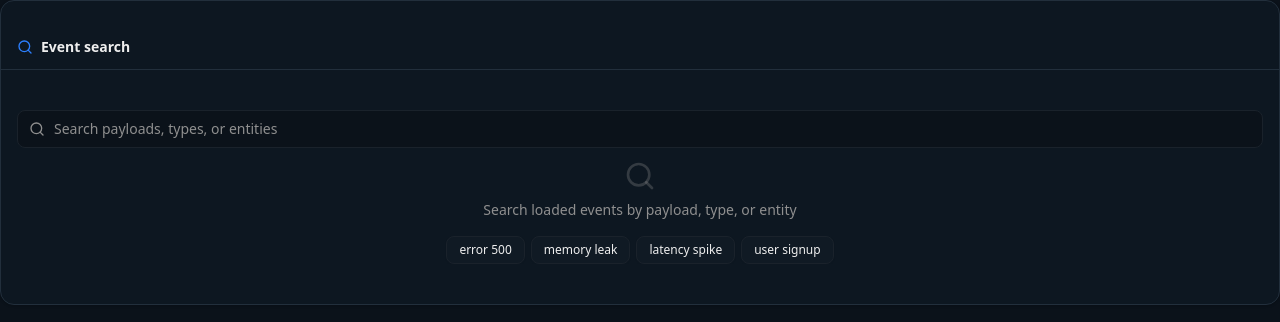
Test: Demo event search › returns deterministic lexical matches without vector claims
The width and height of the screenshot is (1280, 322).
Click the button "memory leak" at (581, 250), box [531,236,630,264]
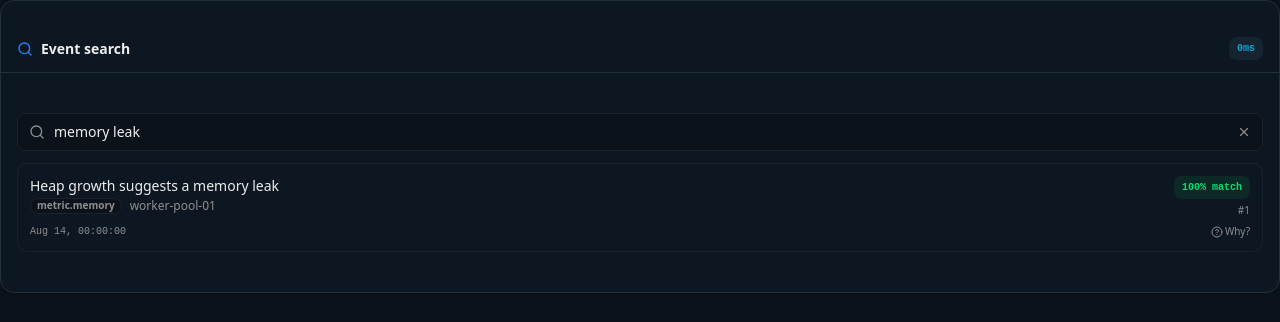
Result: the text "Heap growth suggests a memory leak" is shown at [30,176,279,195]
Result: the text "100% match" is shown at [1174,176,1250,199]
